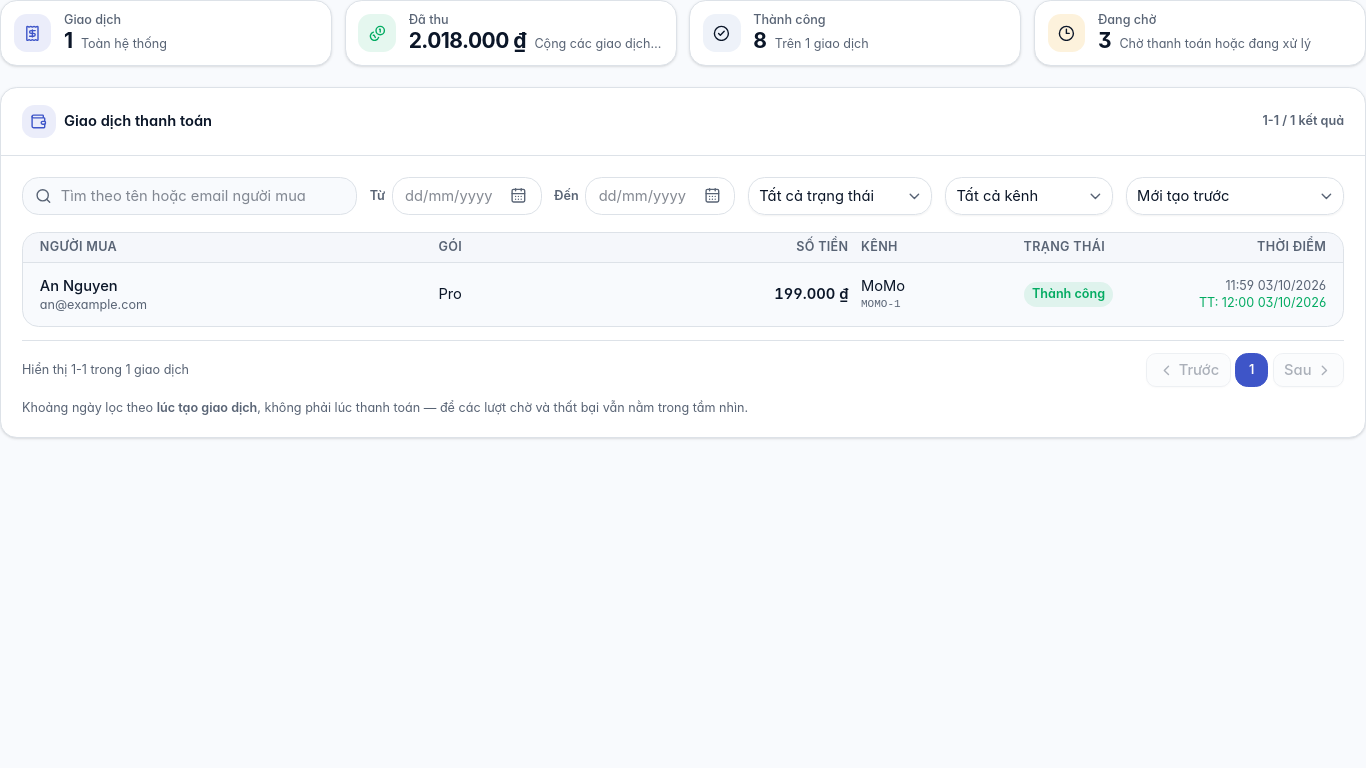
<AdminPaymentTransactionsPage /> — thanh bộ lọc một hàng › 'Đến ngày' không cho chọn ngày trước 'Từ ngày'
In the field named "Từ ngày": x=466, y=196 [392, 177, 542, 215], type "10/10/2026"
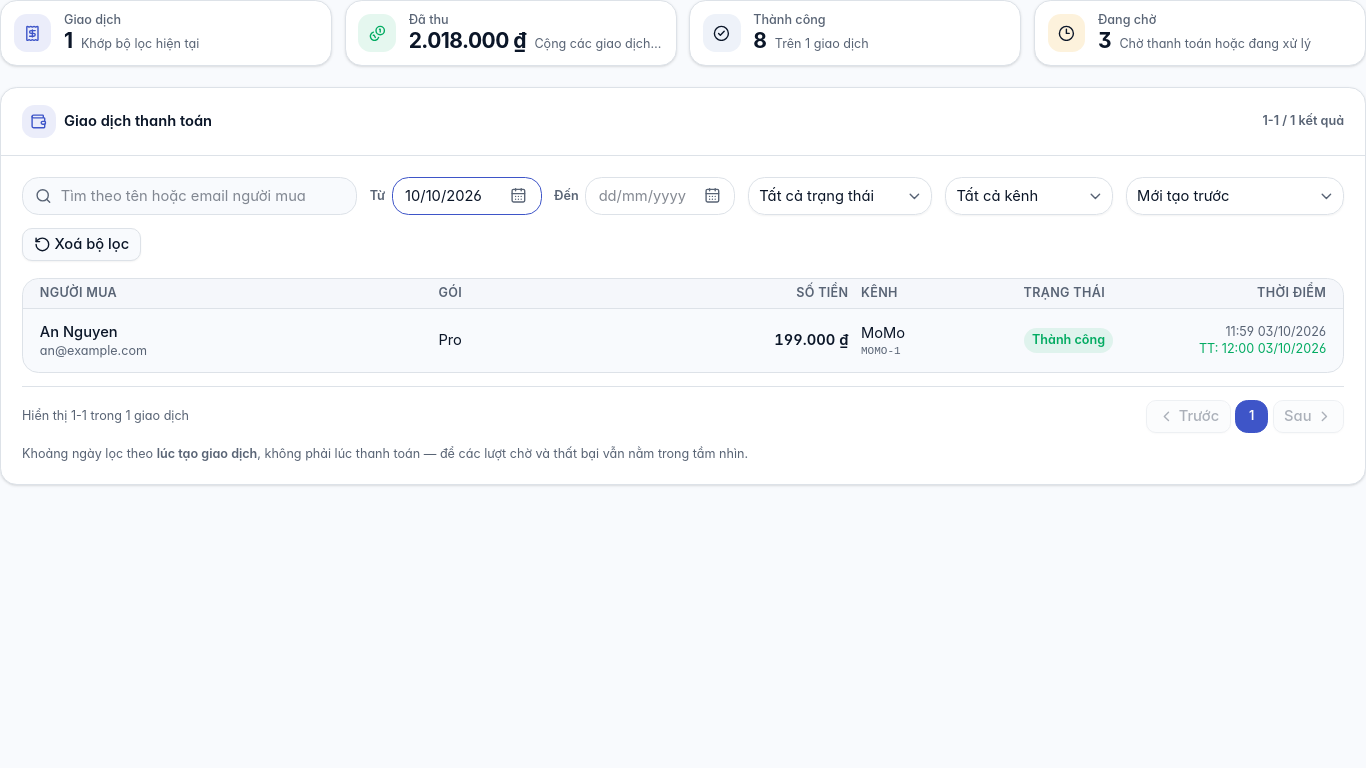
Click the button named "Mở lịch: Đến ngày": x=712, y=196 [697, 181, 727, 211]
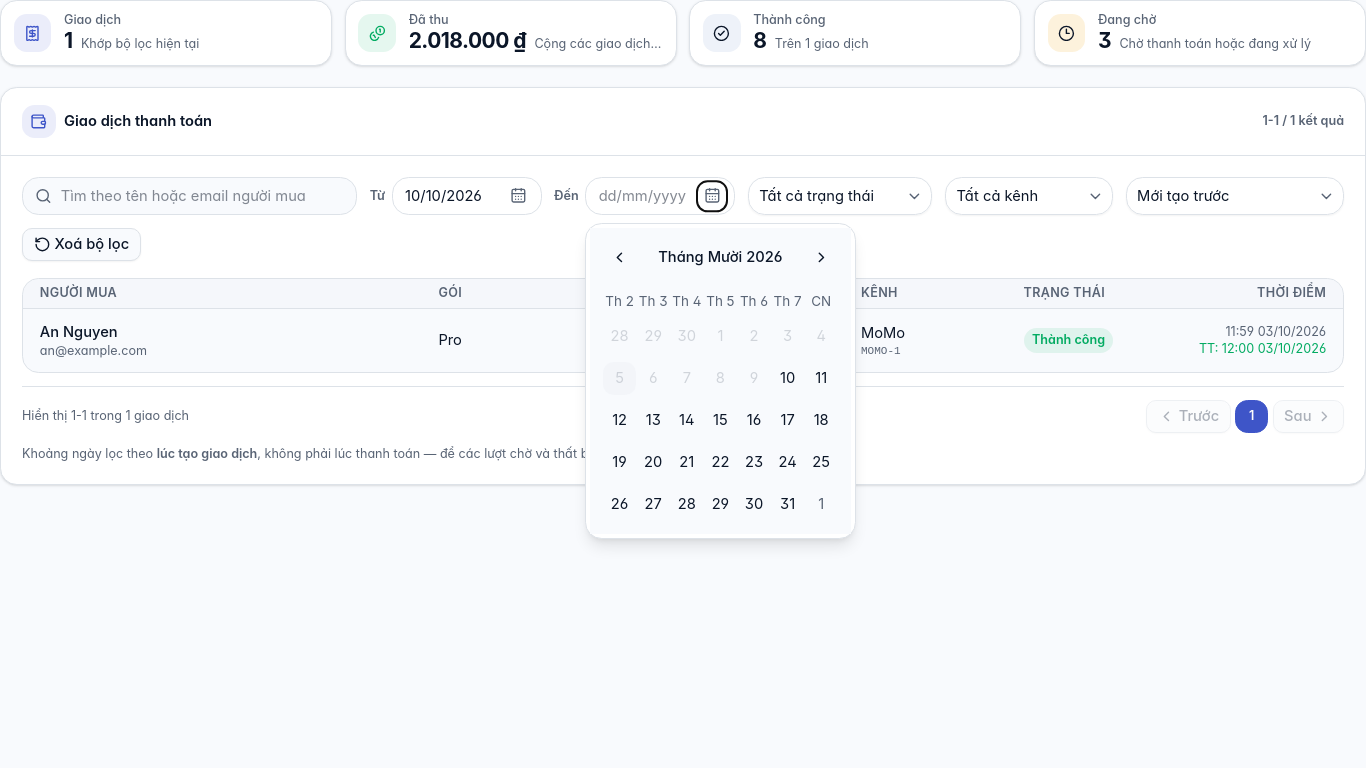
Result: the button "5" is disabled at [603, 362, 636, 395]
